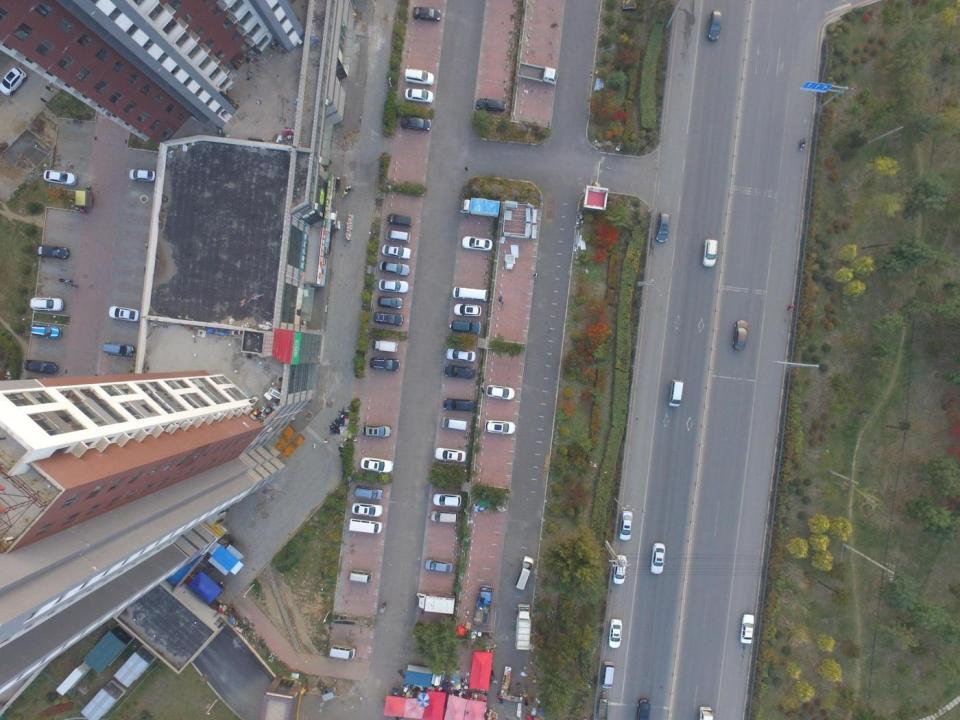car: (0, 67, 27, 96), (360, 457, 394, 473), (109, 306, 141, 322), (43, 170, 77, 185), (379, 260, 410, 276), (24, 359, 57, 374), (732, 320, 748, 350), (655, 211, 670, 242), (650, 543, 665, 574), (435, 447, 466, 462), (404, 88, 434, 103), (378, 279, 408, 294), (462, 235, 492, 250), (413, 6, 441, 22), (739, 614, 754, 643), (446, 348, 476, 362), (707, 10, 721, 40), (486, 384, 514, 399), (36, 245, 68, 258), (400, 117, 432, 130), (476, 98, 505, 112), (382, 245, 411, 259), (612, 555, 626, 584), (609, 618, 622, 648), (129, 168, 156, 182), (619, 511, 632, 540), (425, 559, 453, 572), (432, 493, 460, 506), (378, 296, 403, 308), (637, 700, 650, 720)
truck: (404, 664, 446, 686), (518, 62, 558, 84), (416, 592, 454, 614), (460, 197, 501, 217), (514, 604, 531, 650), (473, 585, 492, 626), (372, 340, 398, 353), (699, 706, 715, 720), (382, 602, 386, 608)
van: (514, 556, 534, 590), (349, 518, 382, 534), (405, 68, 434, 86), (452, 287, 488, 301), (30, 297, 65, 311), (444, 364, 476, 379), (449, 320, 481, 334), (668, 379, 684, 407), (370, 357, 401, 371), (444, 398, 475, 412), (702, 239, 718, 266), (31, 324, 61, 338), (373, 311, 403, 325), (485, 420, 515, 434), (103, 343, 134, 356), (362, 424, 392, 437), (385, 229, 411, 243), (330, 645, 356, 659), (354, 486, 382, 499), (454, 303, 481, 316), (601, 661, 614, 688), (442, 417, 467, 431), (387, 213, 411, 227), (431, 510, 458, 522), (350, 570, 372, 582)
